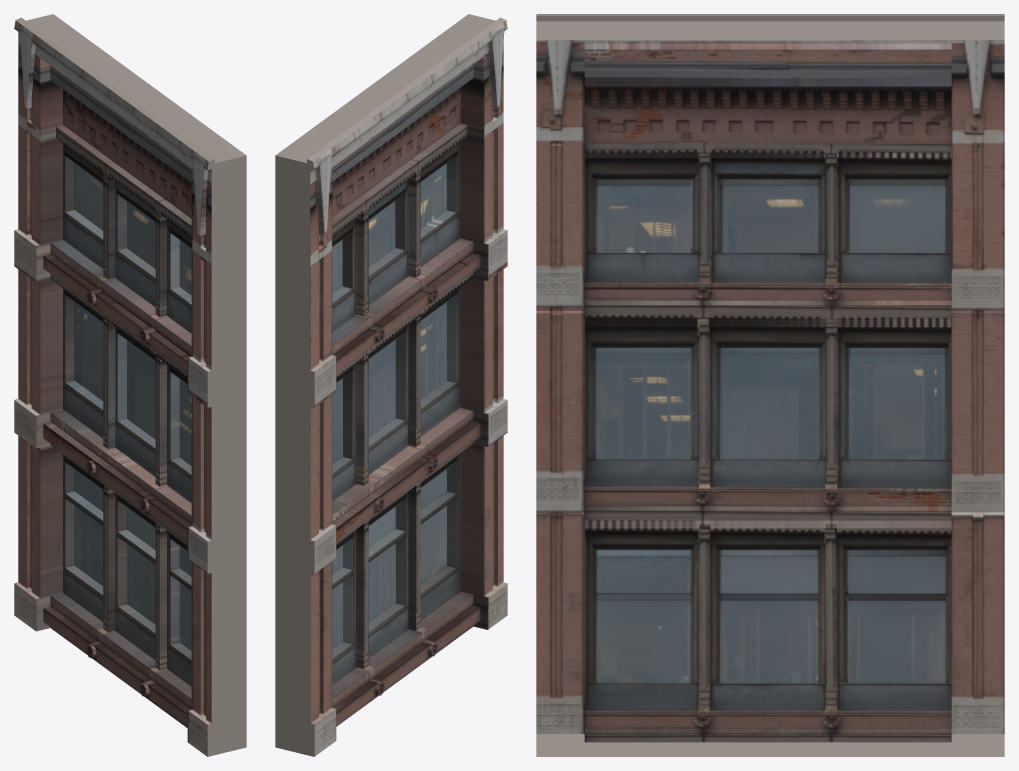
The model's file is facade2.fbx.
3 renders of one model, left to right at view 1: azimuth 30°, elevation 25°; view 2: azimuth 150°, elevation 25°; view 3: azimuth 270°, elevation 25°, orthographic. The views are drawn at different scales.
Visible parts, largest first — view 1: facade2; view 2: facade2; view 3: facade2.
Part boxes in pixels (bbox=[...]): facade2: bbox=[14, 14, 246, 756]; facade2: bbox=[275, 14, 507, 756]; facade2: bbox=[536, 14, 1004, 756].
Bounding box in the file's own units: 3.27 × 47.65 × 28.01.
2 materials, 2 textured.
